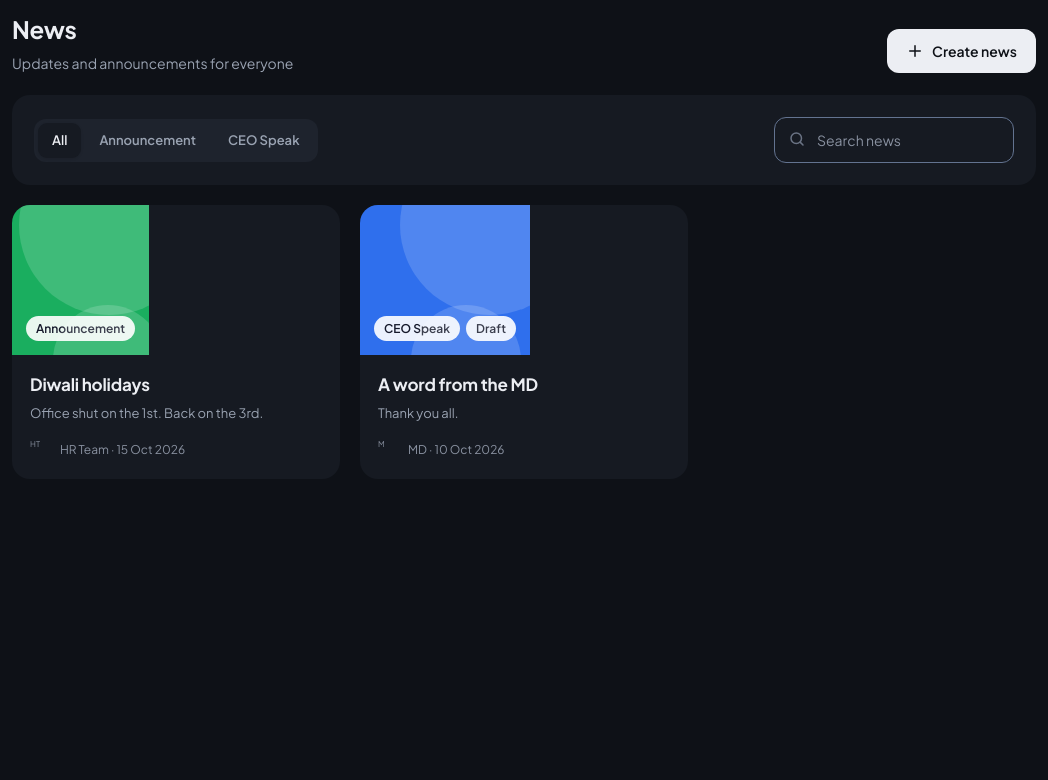
Test: News › opens a post with More news beside it
This screenshot has width=1048, height=780.
Click the button with class "k-news-card" that starts with "Announcement" at (81, 280), box x1=12 y1=205 x2=340 y2=479
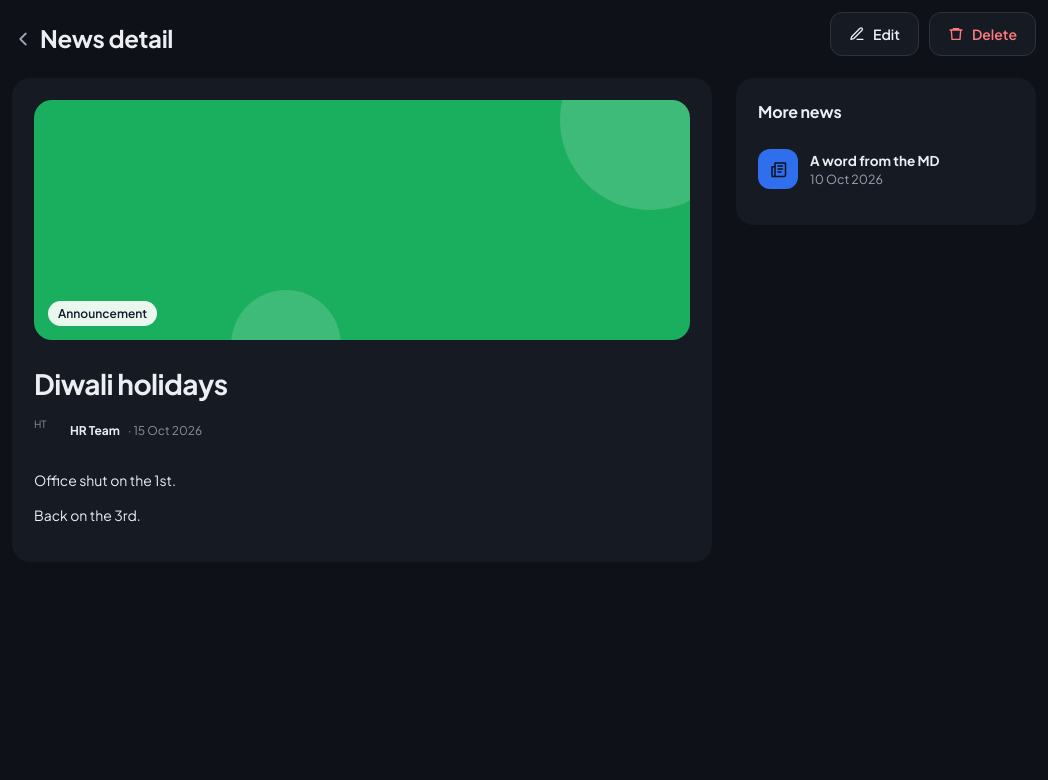
Check: the heading "Diwali holidays" is shown, box x1=34 y1=366 x2=228 y2=401
Check: the element showing "More news A word from the MD 10 Oct 2026" is shown, box x1=736 y1=78 x2=1036 y2=225
